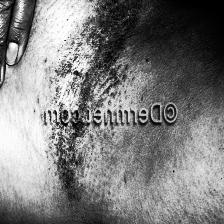Non-Cancerous Skin Condition: (42, 0, 136, 100), (40, 142, 96, 180)
